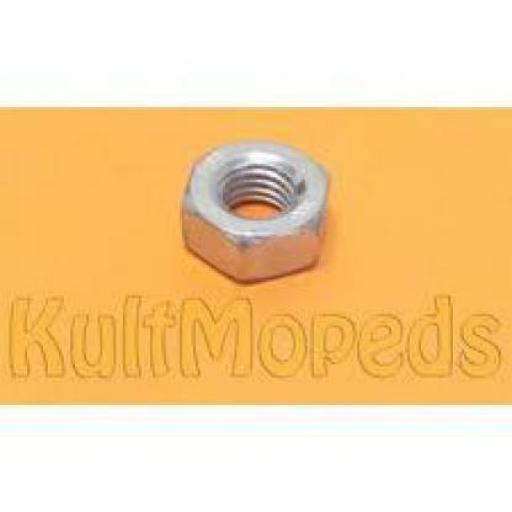Nut: (180, 139, 331, 284)
